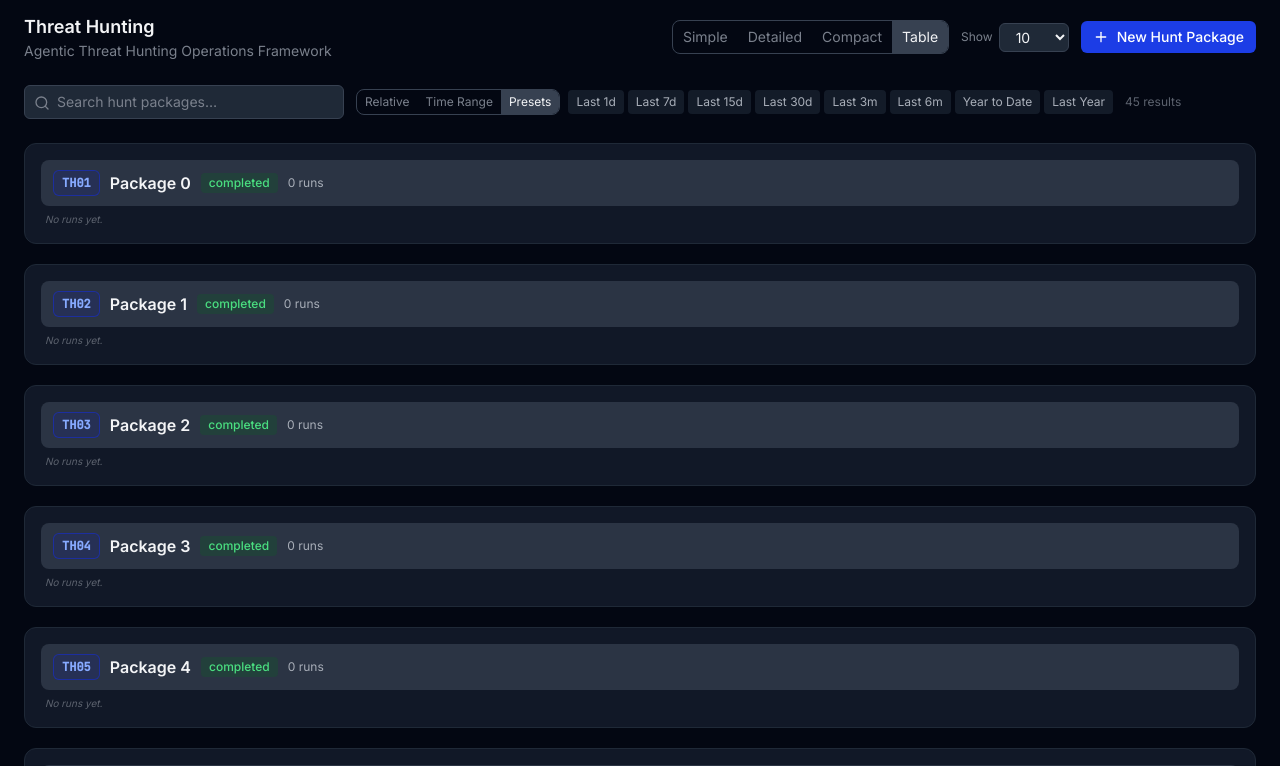
Test: ThreatHunting list — pagination (issue-local-018 follow-up) › changing the page-size dropdown re-pages the list and persists to localStorage
Expected: the text "Package 0" is shown, [110,171,191,195]
Select "50" in the dropdown labelled "Show". click: (1034, 37)
box: [999,22,1069,52]
(page scrolled)
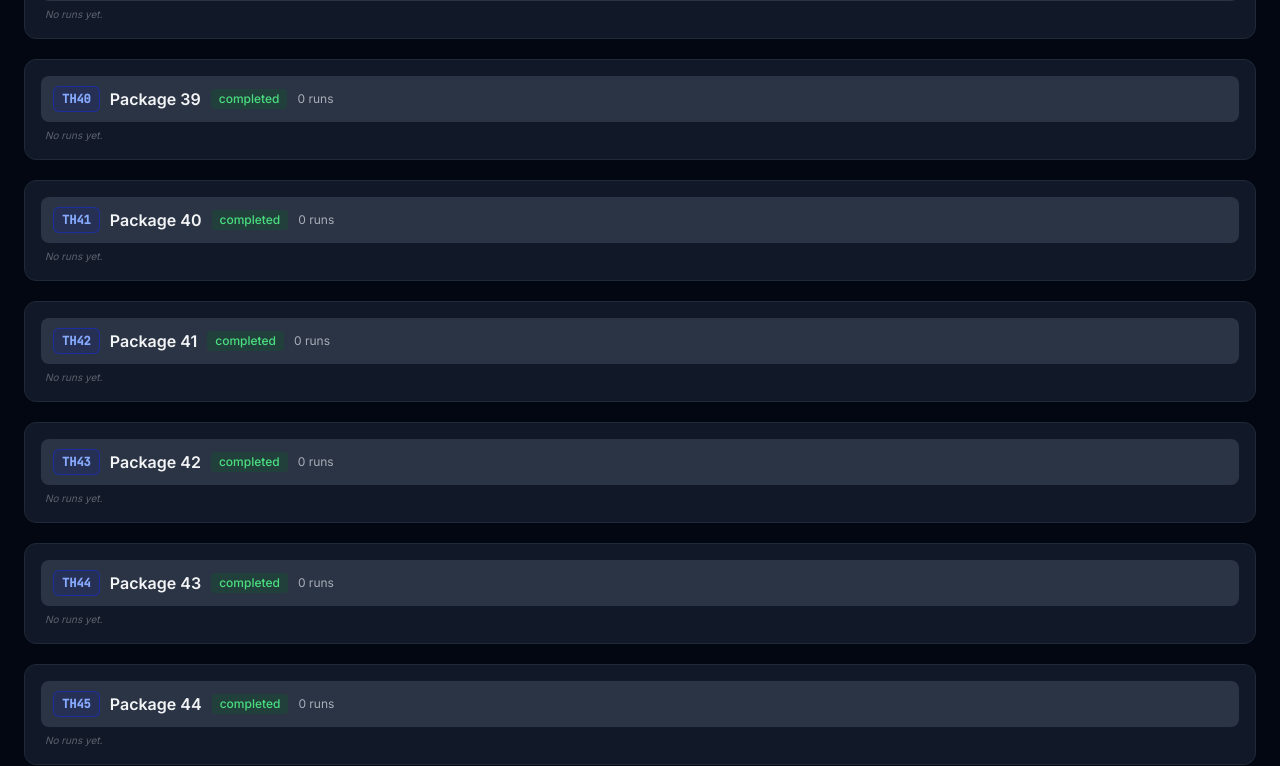
Now the text "Package 44" is shown, box [110,692,202,716]
